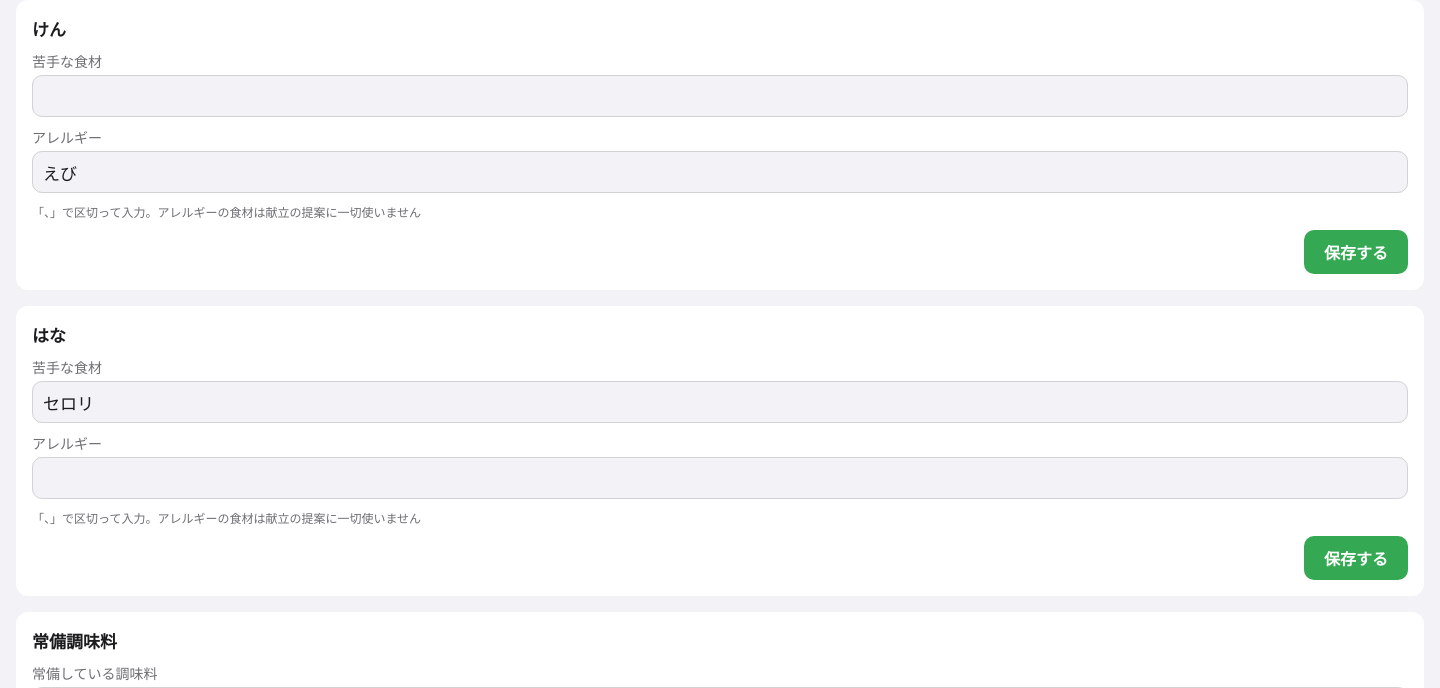
Test case: SettingsScreen › 保存に失敗したらエラーを表示する
The image size is (1440, 688).
Click the 1st button "保存する" at coordinates (1356, 252), box top-left (1304, 230), bottom-right (1408, 274)
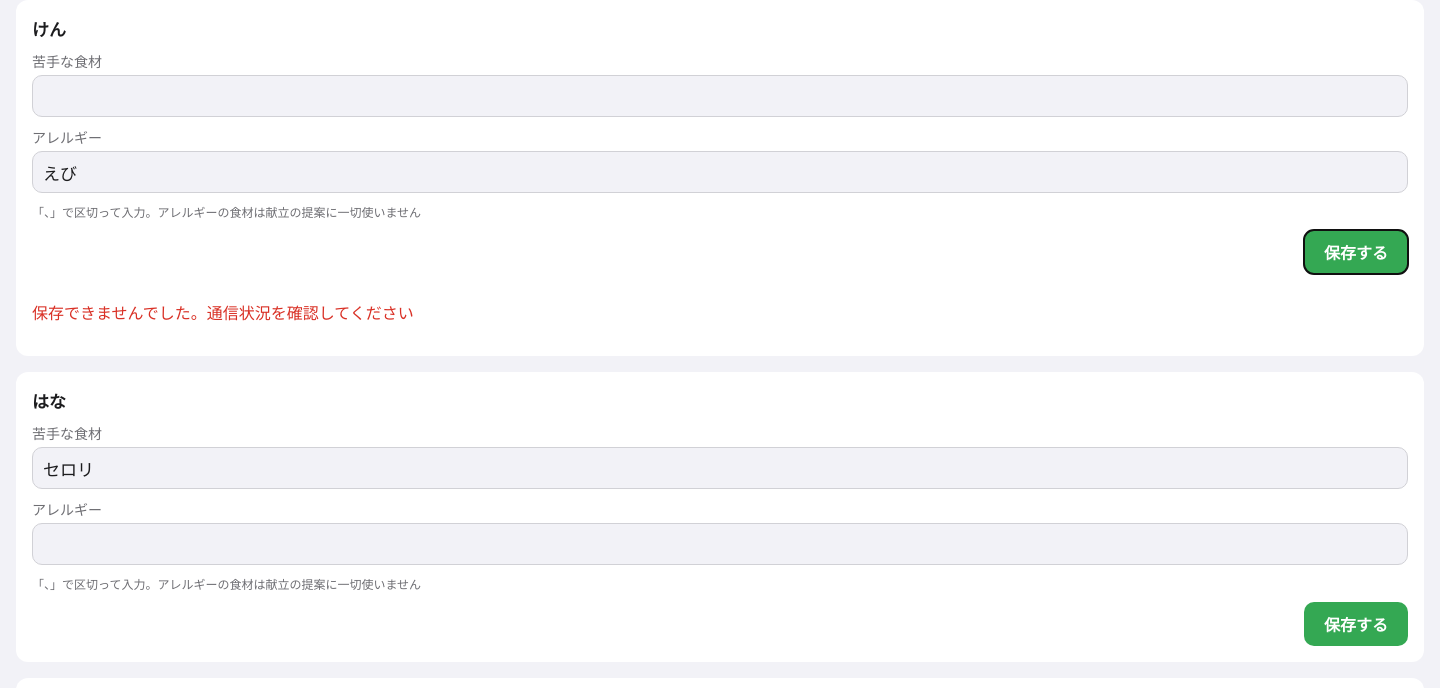
Expected: the message shows "保存できませんでした", top-left (32, 303), bottom-right (414, 323)
